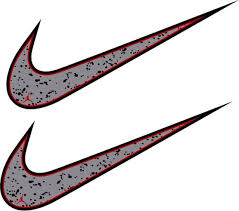nike: (1, 100, 237, 210), (3, 2, 239, 111)
